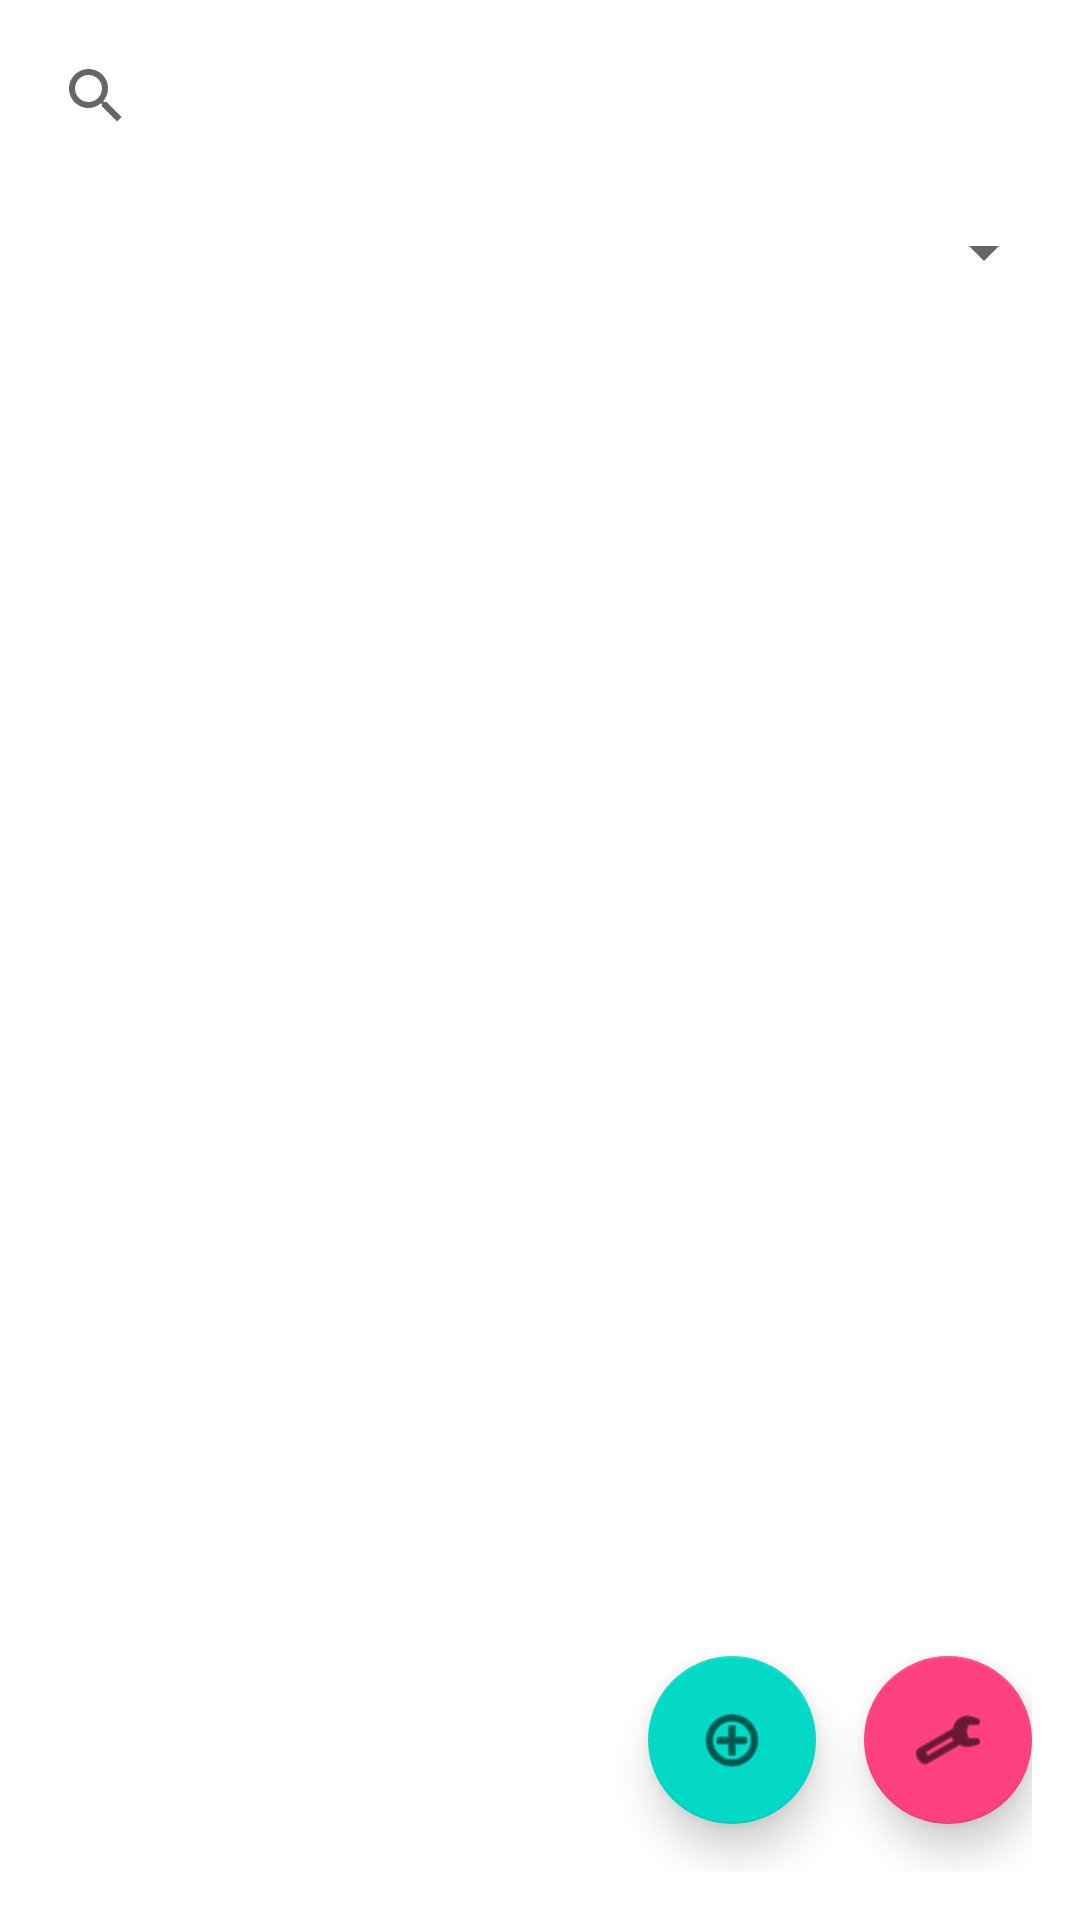

Named icons in this screenshot (1080x1920) and their centers, (x=x, y=y):
add: (x=732, y=1740)
preferences: (x=948, y=1740)
